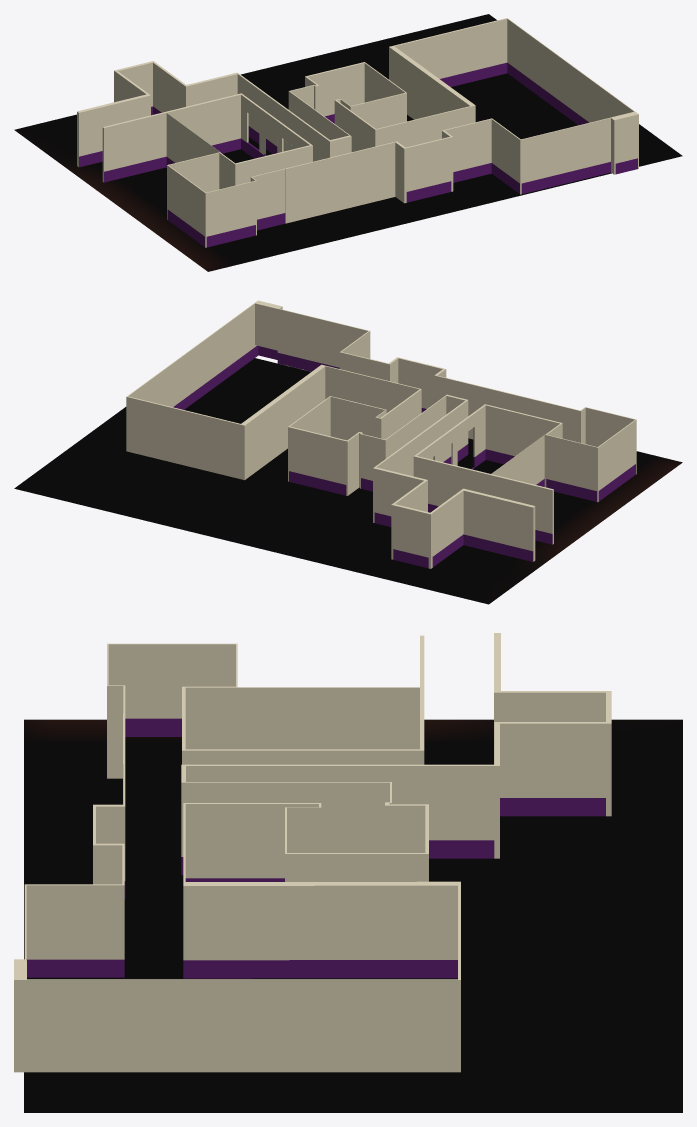
Rendered from lvlmap2 3.fbx.
3 renders of one model, top to bottom at view 1: azimuth 30°, elevation 25°; view 2: azimuth 150°, elevation 25°; view 3: azimuth 270°, elevation 25°, orthographic. The views are drawn at different scales.
Parts seen in each view (by area): view 1: Cube, Plane; view 2: Cube, Plane; view 3: Cube, Plane.
Boxes of the visible parts, <box> form: Cube: <box>77,18,638,247</box>; Plane: <box>14,14,682,271</box>; Cube: <box>126,300,636,568</box>; Plane: <box>14,358,682,604</box>; Cube: <box>14,633,611,1072</box>; Plane: <box>24,719,682,1112</box>.
Bounding box in the file's own units: 2134 × 239 × 1534.
